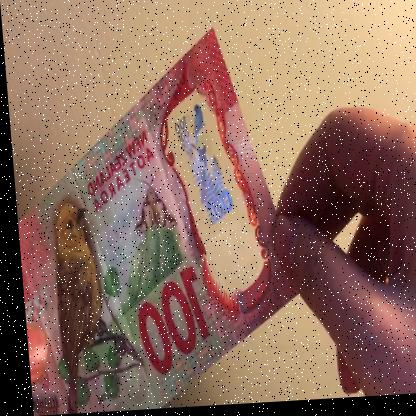100B: (167, 102, 239, 233)
